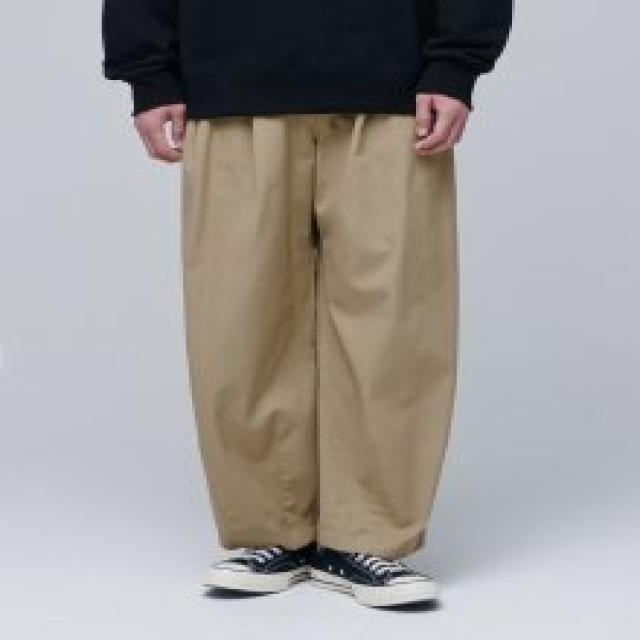long-pants: (180, 114, 461, 556)
